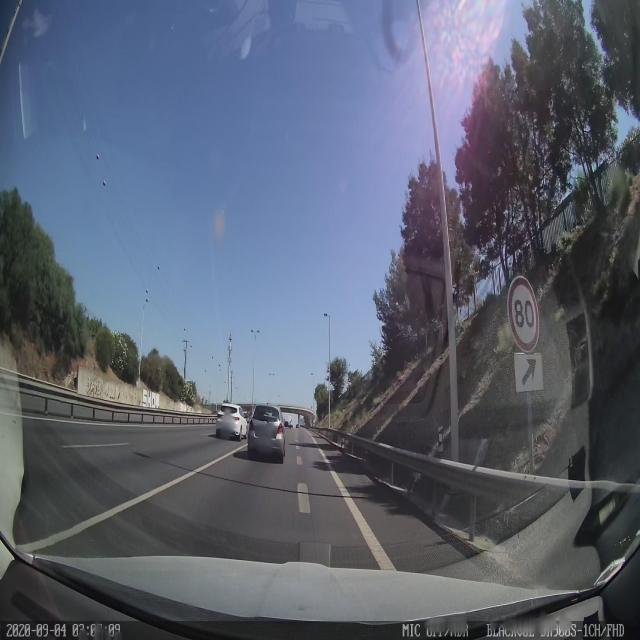car: (248, 402, 286, 462), (215, 404, 249, 440)
